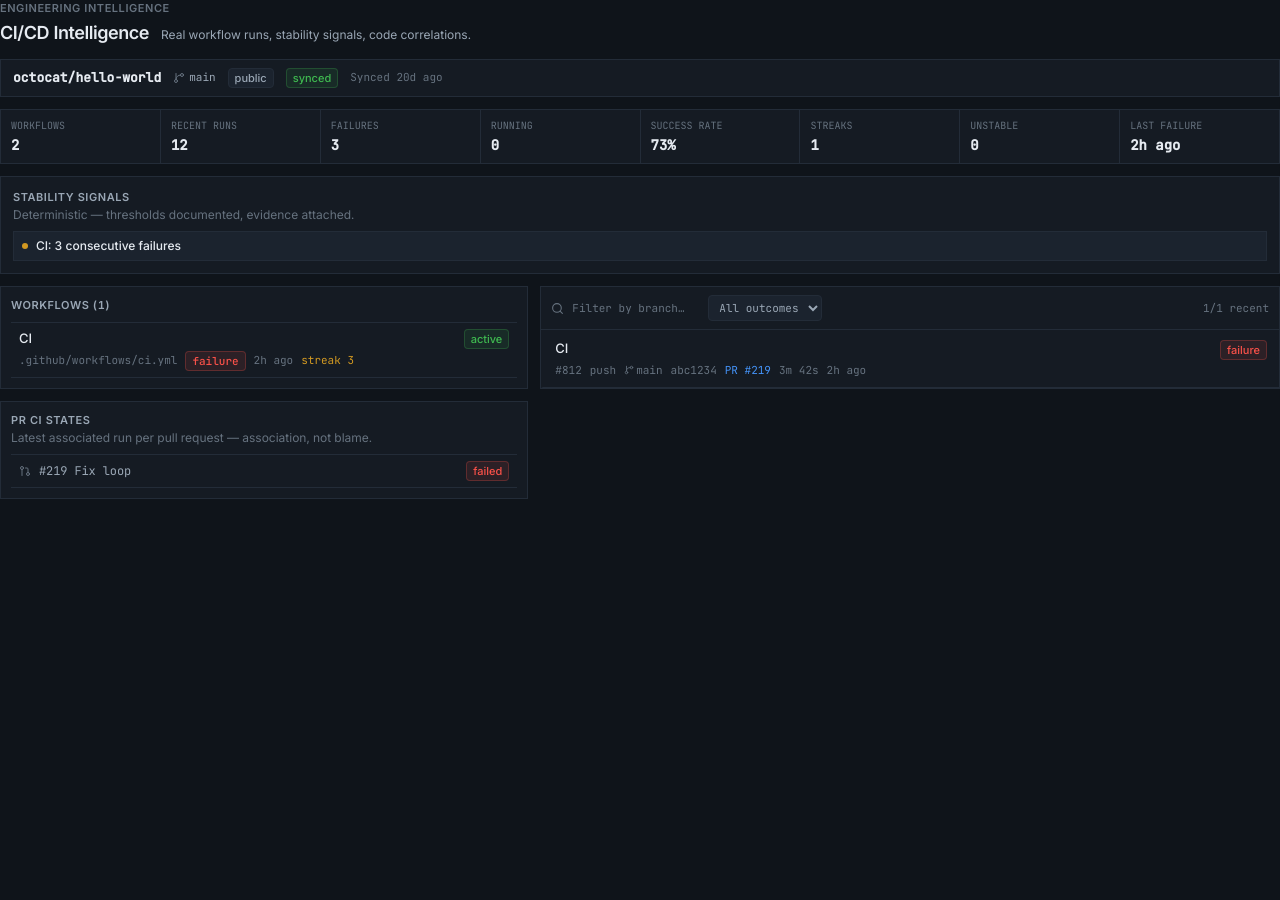
Test: CICDPage real intelligence › shows the AI unavailable state when no provider is configured
Step 1. Click the text "PR #219" → (748, 370), box [725,362,771,378]
(page scrolled)
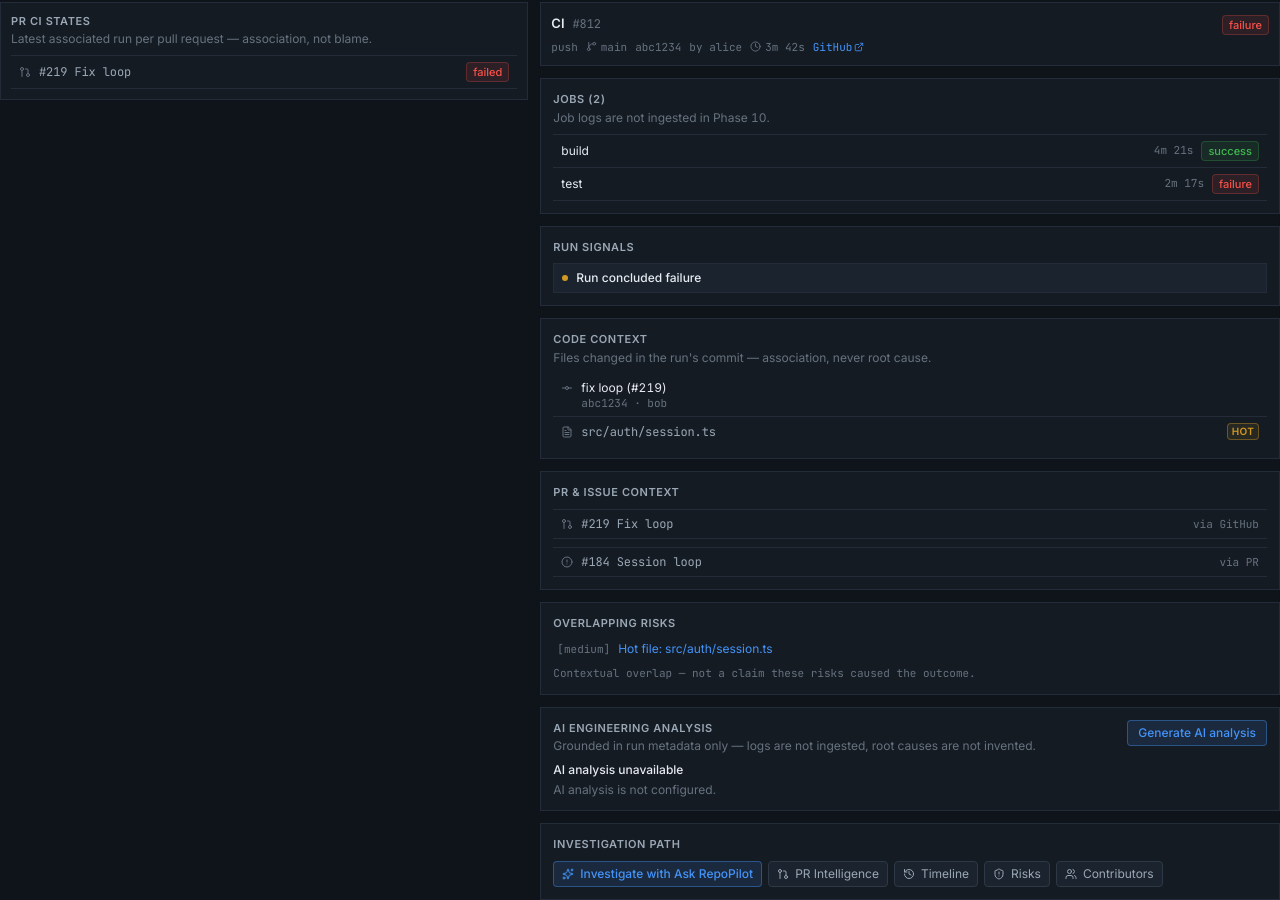
Result: the text "AI analysis unavailable" is shown at [553,762,683,778]
Result: the text "AI analysis is not configured." is shown at [553,782,716,798]
